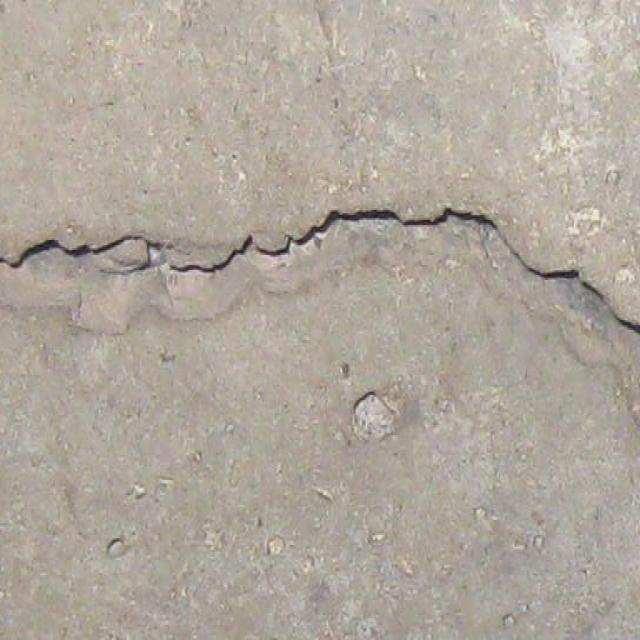Rippled: (341, 388, 402, 438)
Transverse: (1, 204, 639, 338)
